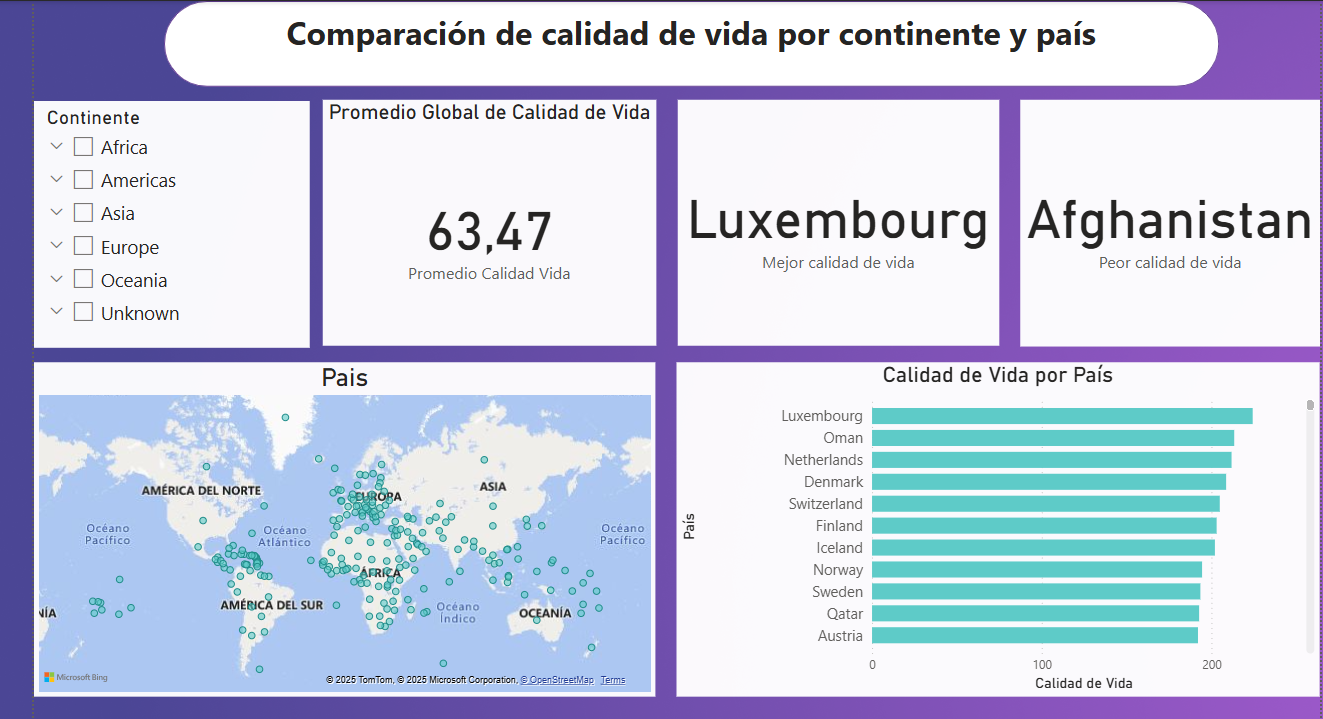

What the dashboard file says about the page in this screenshot:
{"tool":"powerbi","page":{"name":"Página 1","canvas":[1280,720],"ordinal":0},"visuals":[{"type":"shape","box":[129.5,0,1050.1,85.4],"z":0},{"type":"slicer","fields":{"Values":["qualitylife.Continente","qualitylife.country"]},"box":[0,99.2,274.2,245.3],"z":1000},{"type":"map","fields":{"Category":["qualitylife.country"]},"box":[0,360,618.6,332.9],"z":2000},{"type":"textbox","box":[172.3,5.5,964.7,74.4],"z":3000},{"type":"card","title":"Promedio Global de Calidad de Vida","fields":{"Values":["qualitylife.Promedio Calidad Vida"]},"box":[287.8,98.4,331.8,245.2],"z":4000},{"type":"barChart","fields":{"Category":["qualitylife.country"],"Y":["Sum(qualitylife.Quality of Life Value)"]},"box":[640,360,640,332.9],"z":5000},{"type":"card","fields":{"Values":["qualitylife.Mejor Pais"]},"box":[640.1,98.4,320.1,245.2],"z":6000},{"type":"card","fields":{"Values":["qualitylife.Peor_Pais"]},"box":[981.4,98.6,298.6,245.7],"z":7000}]}

Visuals, with their boxes on the page's 1280x720 design canvas (x1, y1, x2, y2). These are canvas units, not pixel positions in the 1323x719 screenshot, which may show the page scaled, cropped or inside an application window:
shape: (x1=130, y1=0, x2=1180, y2=85)
slicer - qualitylife.Continente x qualitylife.country: (x1=0, y1=99, x2=274, y2=344)
map - qualitylife.country: (x1=0, y1=360, x2=619, y2=693)
textbox: (x1=172, y1=6, x2=1137, y2=80)
"Promedio Global de Calidad de Vida" card: (x1=288, y1=98, x2=620, y2=344)
barChart - qualitylife.country x Sum(qualitylife.Quality of Life Value): (x1=640, y1=360, x2=1280, y2=693)
card - qualitylife.Mejor Pais: (x1=640, y1=98, x2=960, y2=344)
card - qualitylife.Peor_Pais: (x1=981, y1=99, x2=1280, y2=344)
